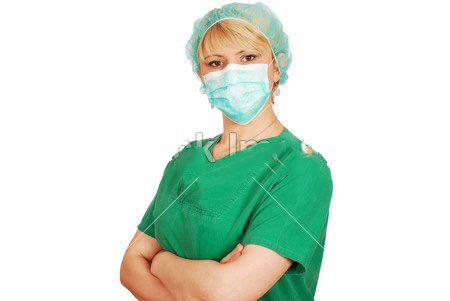face_mask: (202, 27, 273, 123)
